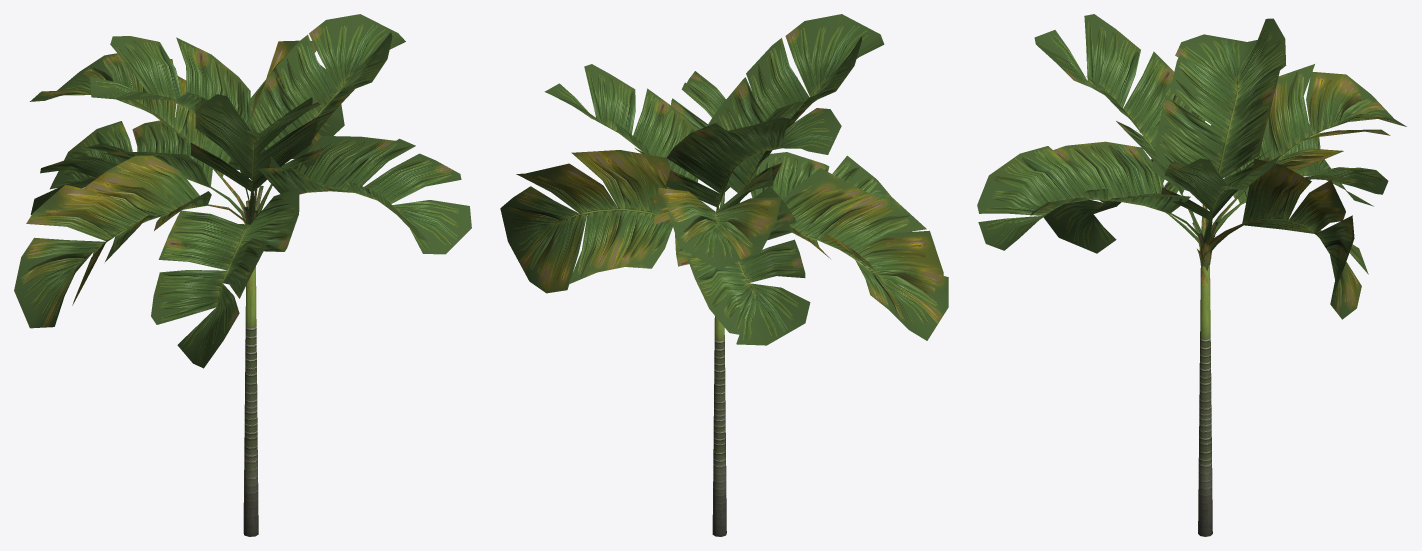
The model's file is Arcea_palm3.fbx.
The picture shows the model from 3 angles, left to right: view 1: azimuth 30°, elevation 25°; view 2: azimuth 150°, elevation 25°; view 3: azimuth 270°, elevation 25°; orthographic projection. The views are drawn at different scales.
Parts seen in each view (by area): view 1: polySurface118; view 2: polySurface118; view 3: polySurface118.
Boxes of the visible parts, bbox=[...] form: polySurface118: bbox=[14, 14, 471, 536]; polySurface118: bbox=[500, 14, 948, 536]; polySurface118: bbox=[977, 14, 1406, 536].
Size of the model in its own units: 9.15 by 11.38 by 9.31.
